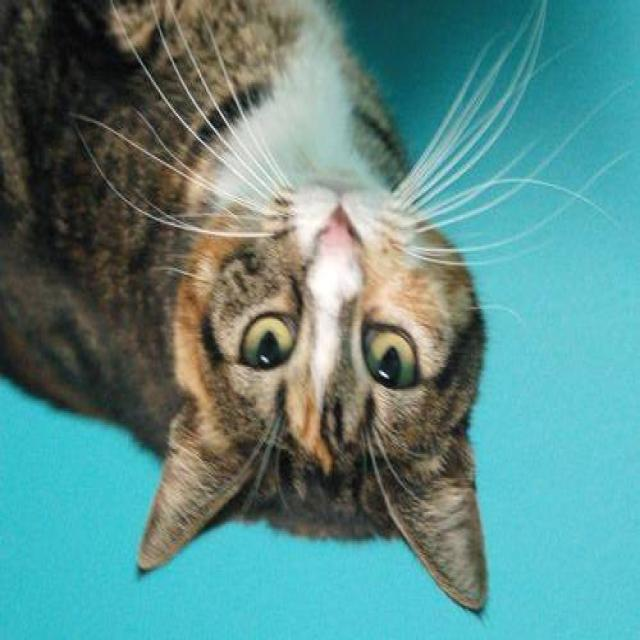Kucing: (2, 3, 640, 633)
